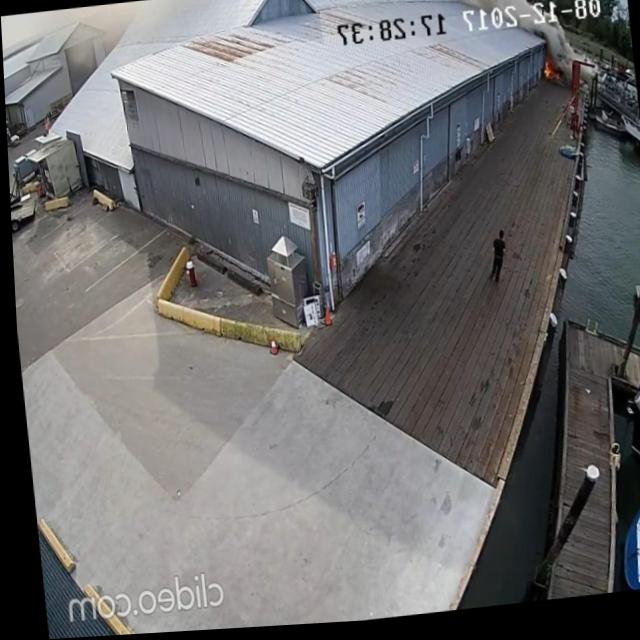fire: (540, 64, 561, 90)
